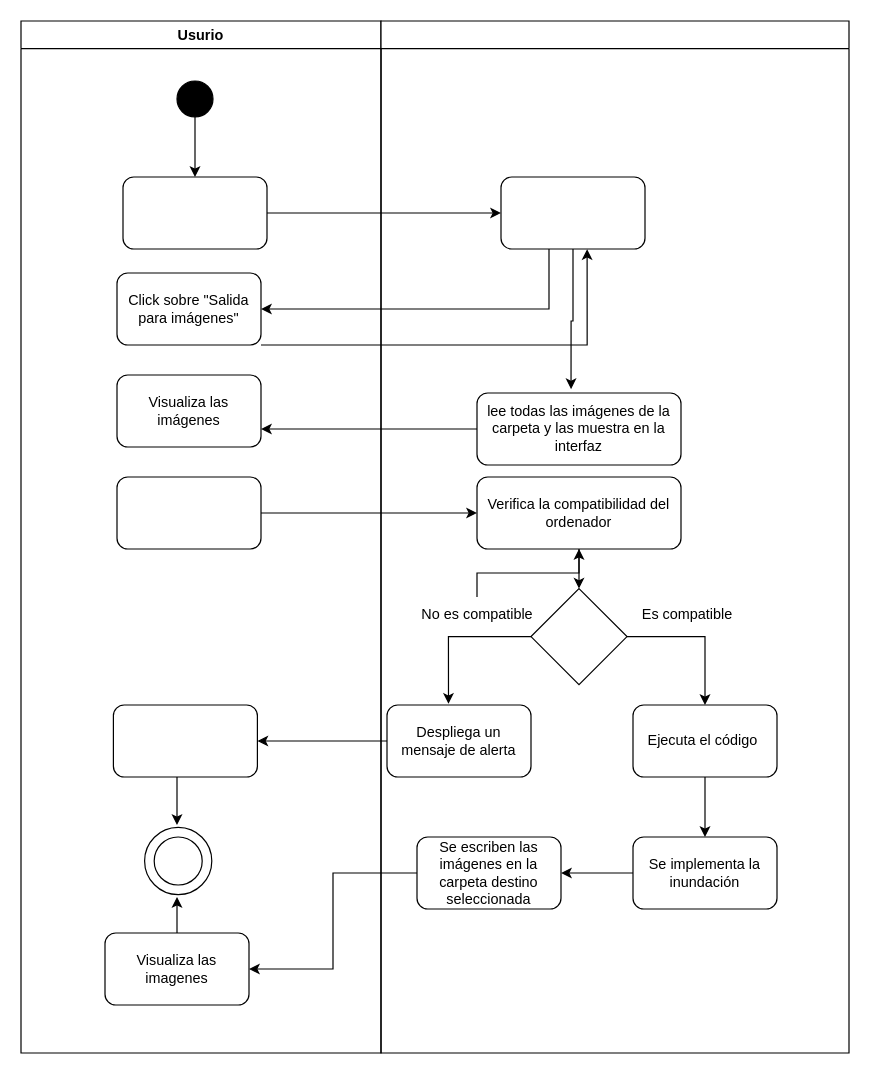
Image size: 870x1074. Some labels were removed from this diagram. The shapes that lost their labels are listed below. From the top down, each one's box as (x1, y1, x2, y2) in pixels, then its label:
(122, 176, 267, 249): Click sobre "ingresar carpeta de imágenes
(500, 176, 645, 249): Desplega el buscador de archivos
(116, 476, 261, 549): Hace click en ejecutar
(380, 20, 849, 1053): Sistema
(112, 704, 257, 777): Visualiza el mensaje
